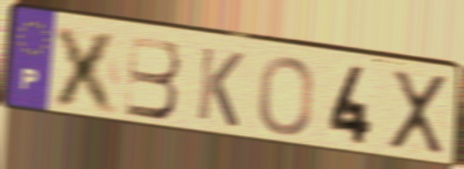4: (325, 64, 375, 147)
B: (123, 33, 183, 122)
K: (193, 44, 247, 131)
O: (255, 54, 317, 138)
X: (49, 23, 124, 118), (387, 67, 450, 157)
